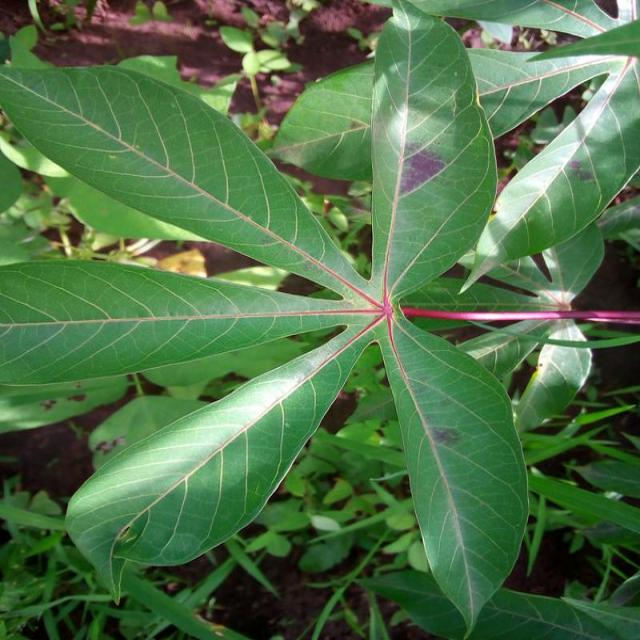cassava leaf: (1, 2, 636, 636), (0, 57, 374, 303), (64, 314, 377, 604)
